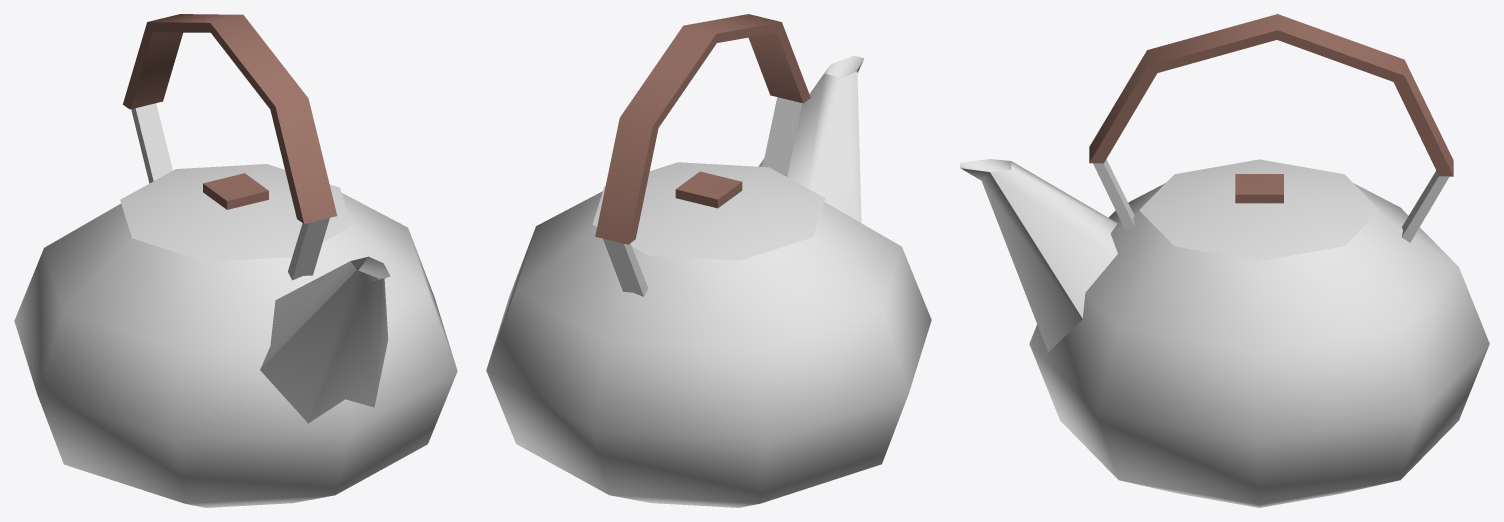
File: prop_047.glb
The picture shows the model from 3 angles, left to right: view 1: azimuth 30°, elevation 25°; view 2: azimuth 150°, elevation 25°; view 3: azimuth 270°, elevation 25°; orthographic projection.
Visible parts, largest first — view 1: prop_047; view 2: prop_047; view 3: prop_047.
Boxes of the visible parts, x1,y1,x2,y2 form: prop_047: (14, 14, 457, 507); prop_047: (486, 14, 931, 507); prop_047: (960, 14, 1489, 507).
Size of the model in its own units: 0.1891 by 0.198 by 0.2174.
Materials: 1 (1 with a texture image).
